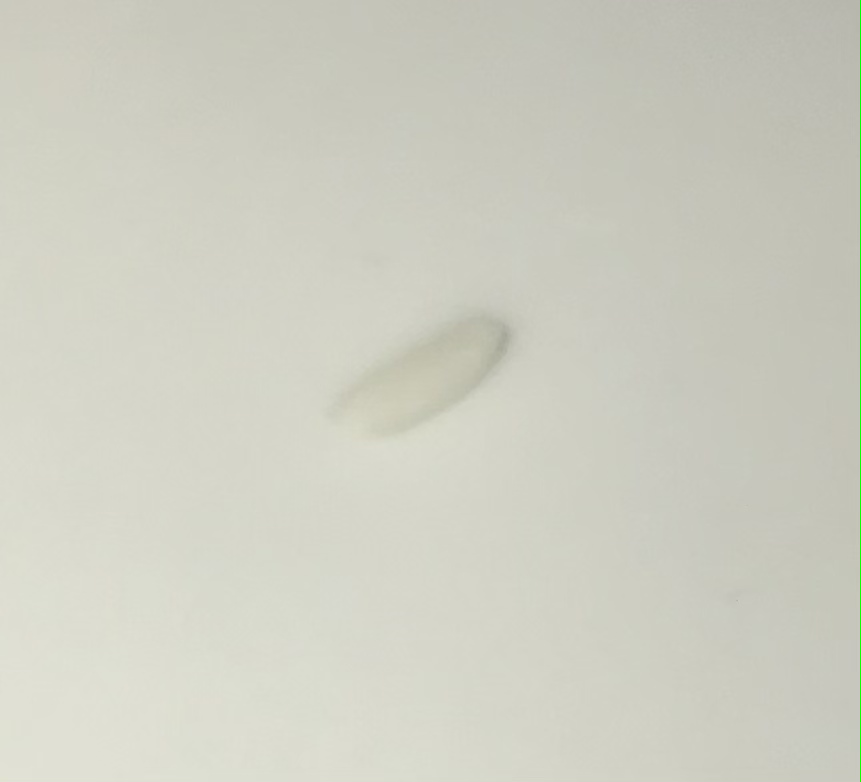Gao Thom Go Cong: (316, 314, 520, 444)
